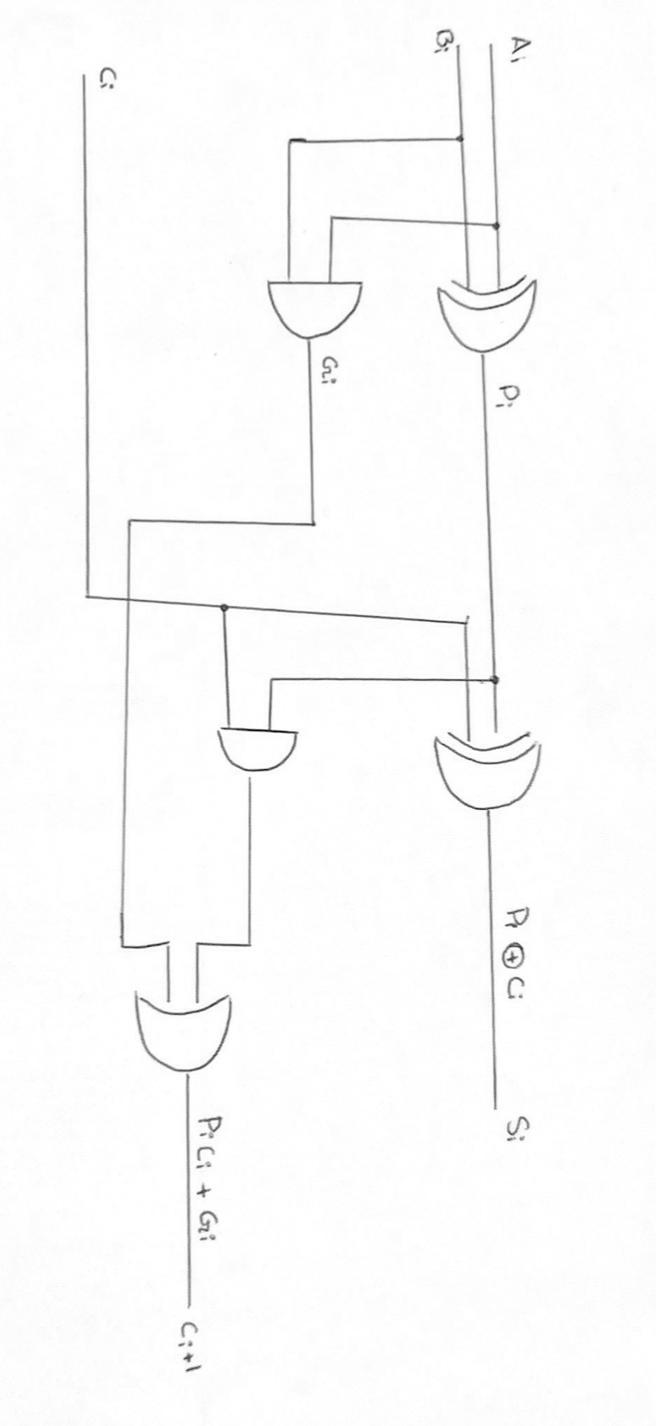AND: (200, 702, 313, 793), (260, 270, 369, 350)
OR: (118, 985, 256, 1085)
XOR: (410, 723, 583, 826), (435, 265, 560, 360)
